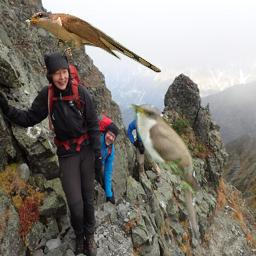Cuckoo: (126, 100, 204, 246), (22, 11, 162, 73)
